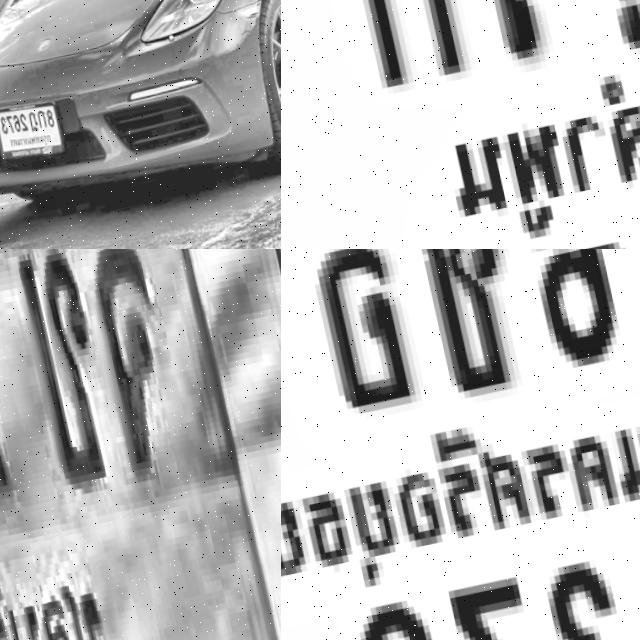license-plate: (281, 249, 640, 640), (0, 249, 281, 640), (281, 0, 640, 249), (0, 95, 63, 167)
